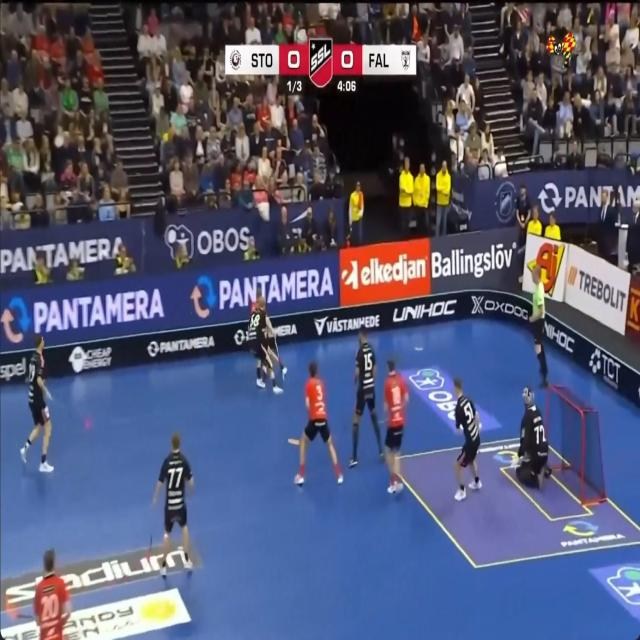player: (294, 362, 343, 485), (153, 434, 194, 577), (349, 331, 383, 466), (20, 334, 53, 472), (512, 387, 551, 487), (247, 295, 282, 392), (454, 377, 481, 500), (34, 548, 70, 639), (384, 360, 408, 493), (529, 265, 548, 387)
